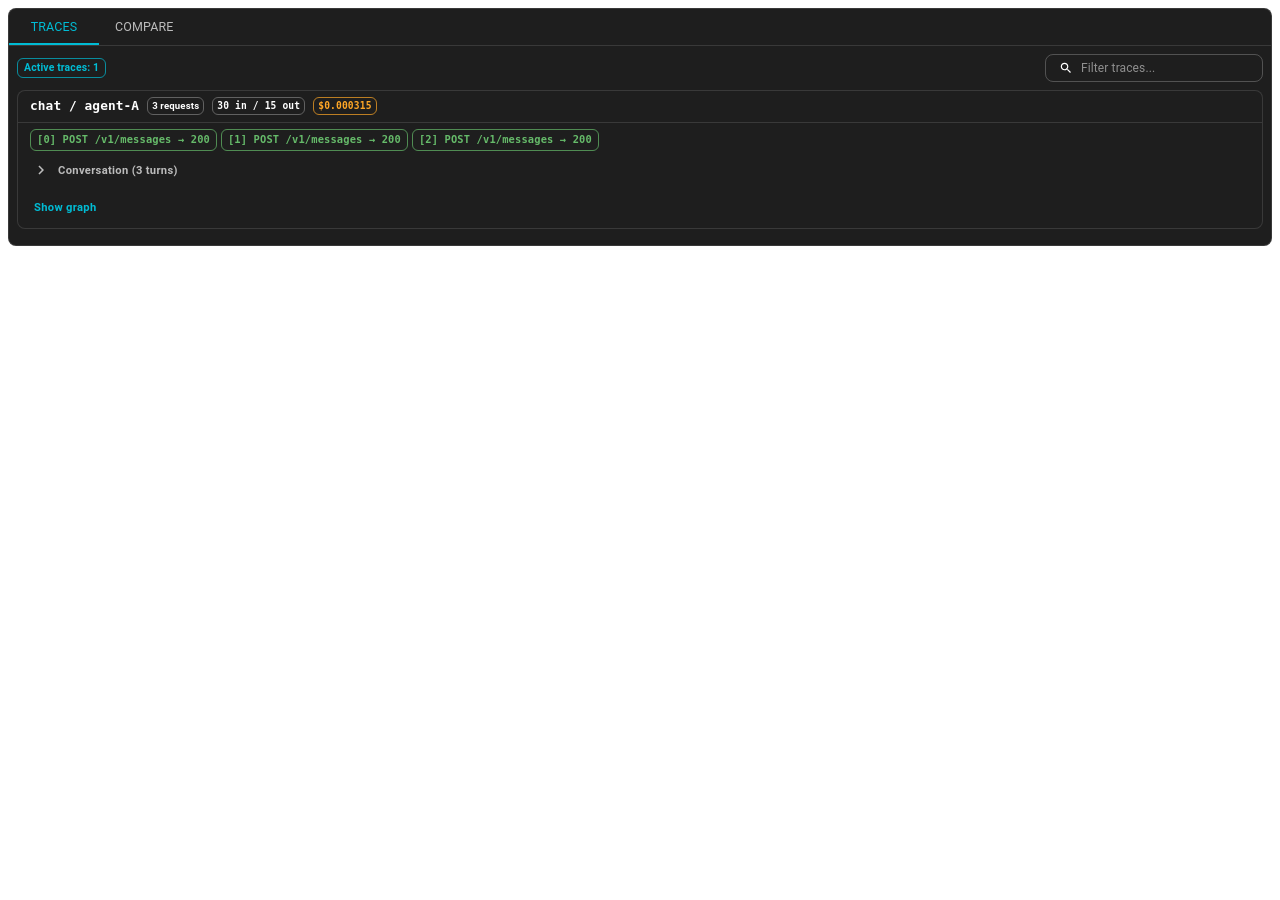
Test case: SessionInspector › collapses a growing multi-turn conversation into one thread of turn deltas
Note: One growing thread, labelled with its turn count (not three full transcripts).
Click the button "Conversation (3 turns)" at (106, 170), box x1=30 y1=156 x2=182 y2=184
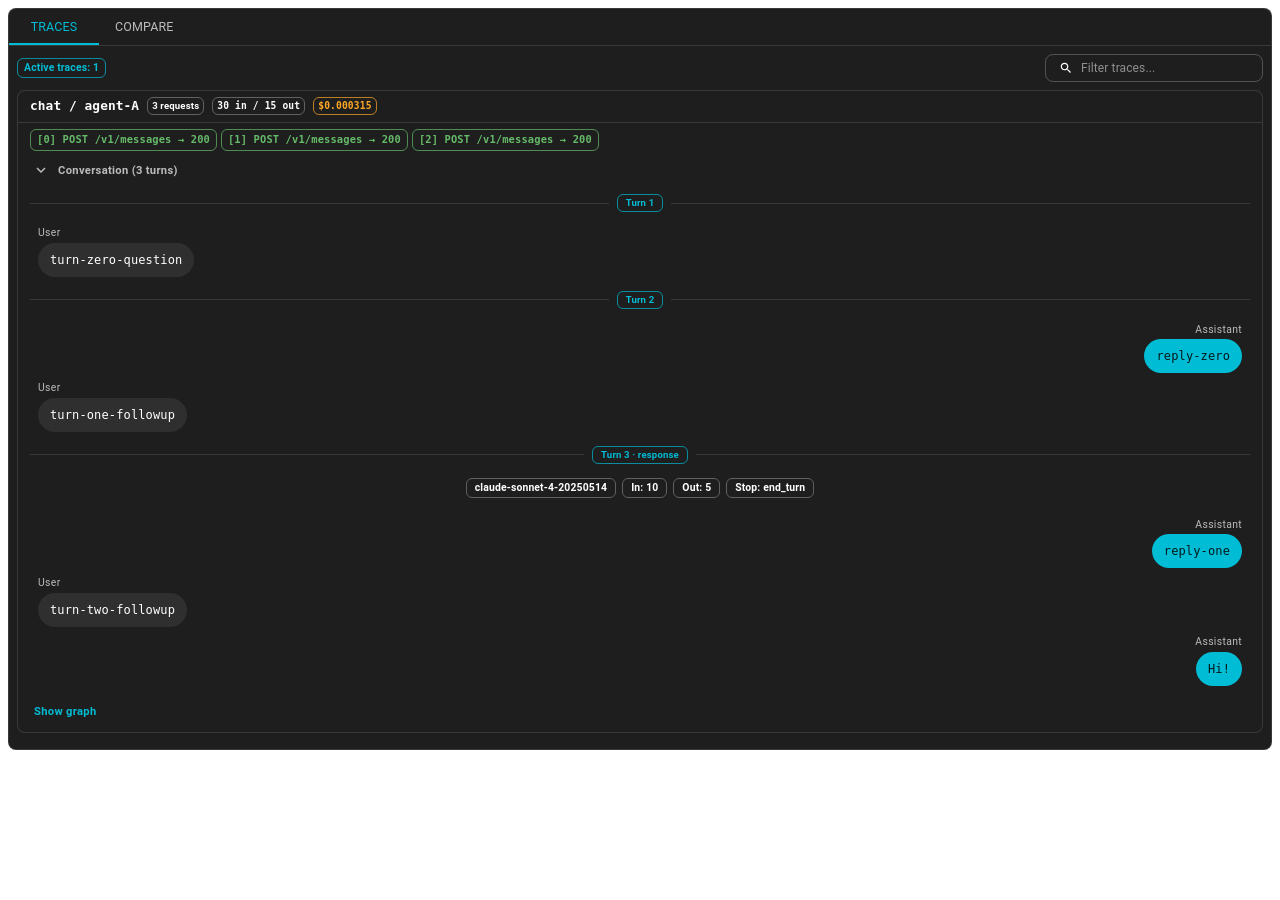
Check: the element with test id "grouped-conversation" is shown, box x1=30 y1=188 x2=1250 y2=688
Check: the text "turn-one-followup" is shown, box x1=50 y1=406 x2=175 y2=424
Check: the text "turn-two-followup" is shown, box x1=50 y1=601 x2=175 y2=619
